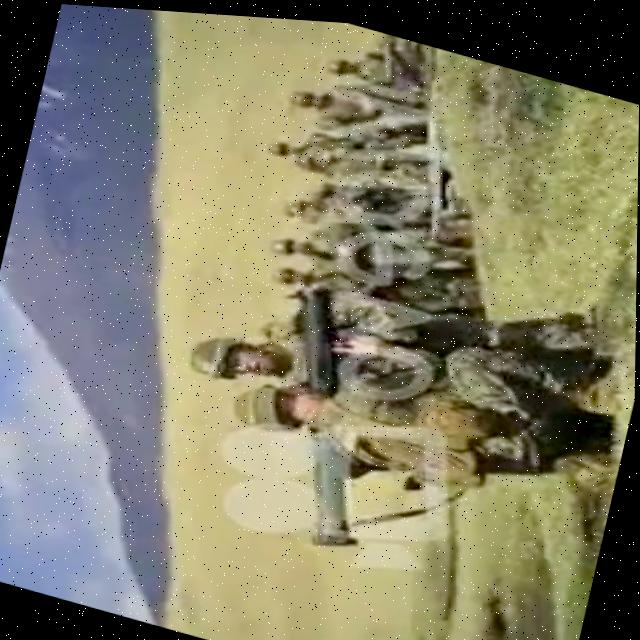rocket: (238, 260, 414, 556)
